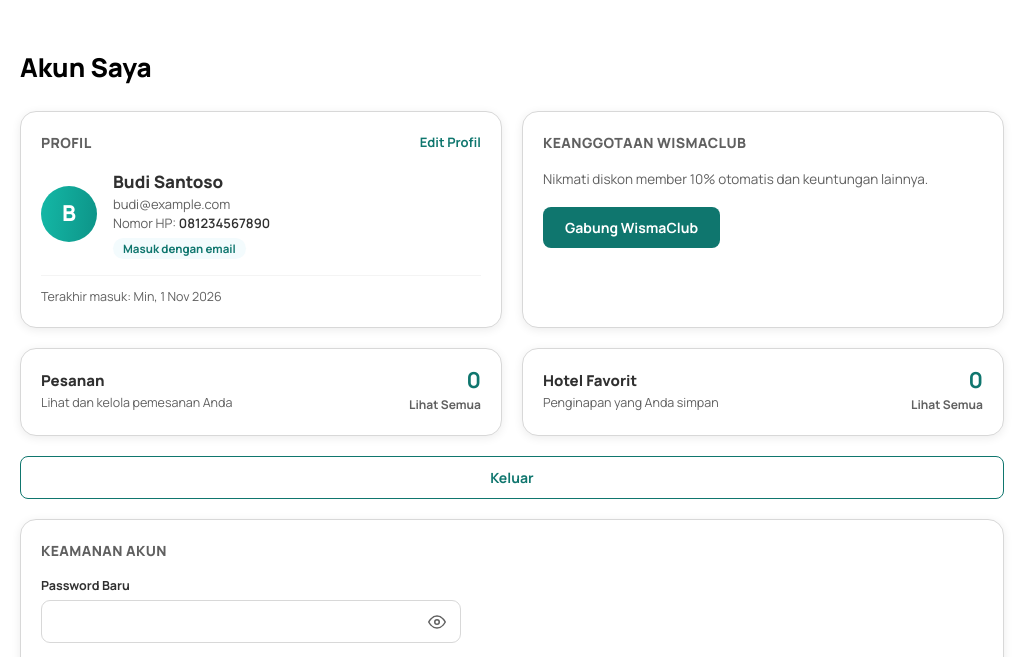
Test: AccountPage › menampilkan pesan error saat update profile gagal
The image size is (1024, 657).
Expected: the text "Budi Santoso" is shown, [113, 170, 223, 193]
Click the button "Edit Profil" at (450, 143), box [420, 133, 481, 152]
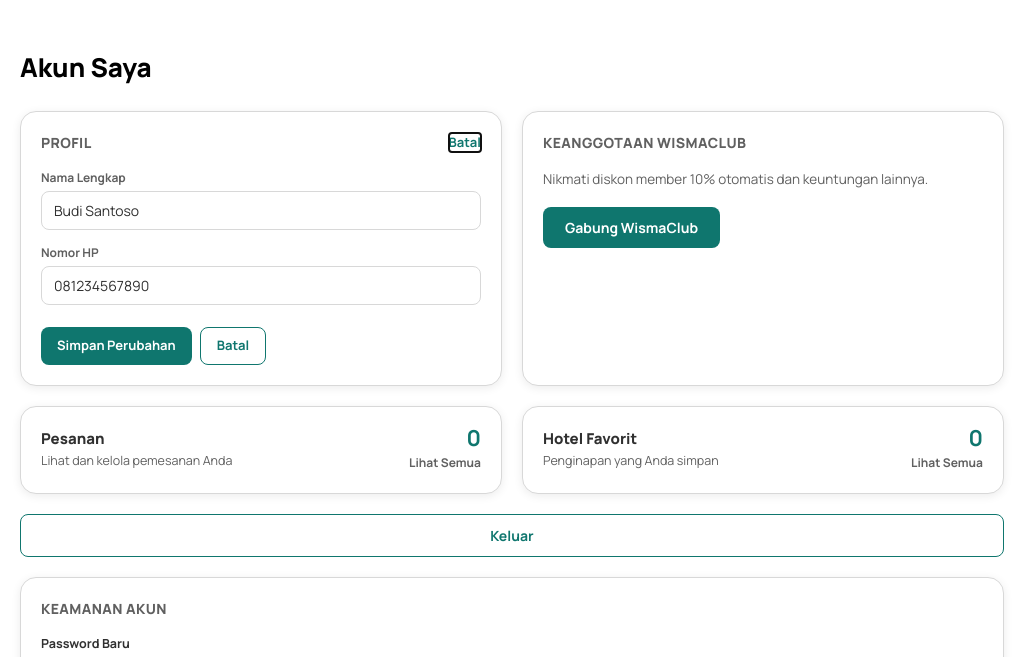
Click the button "Simpan Perubahan" at (116, 346), box [41, 327, 192, 364]
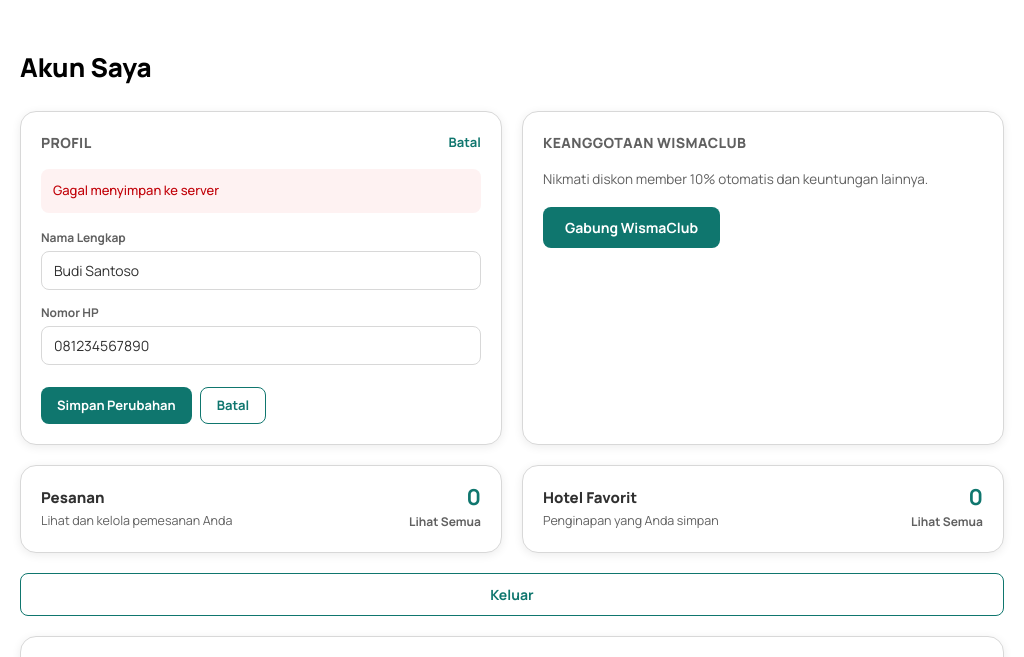
Expected: the message reads "Gagal menyimpan ke server", [53, 181, 219, 199]
